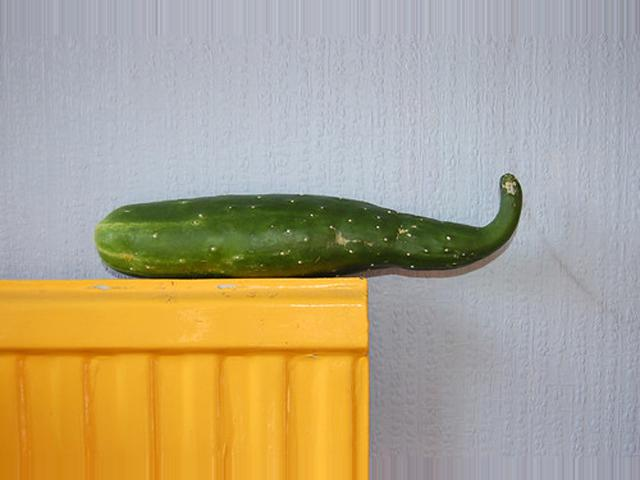cucumber: (97, 172, 524, 279)
